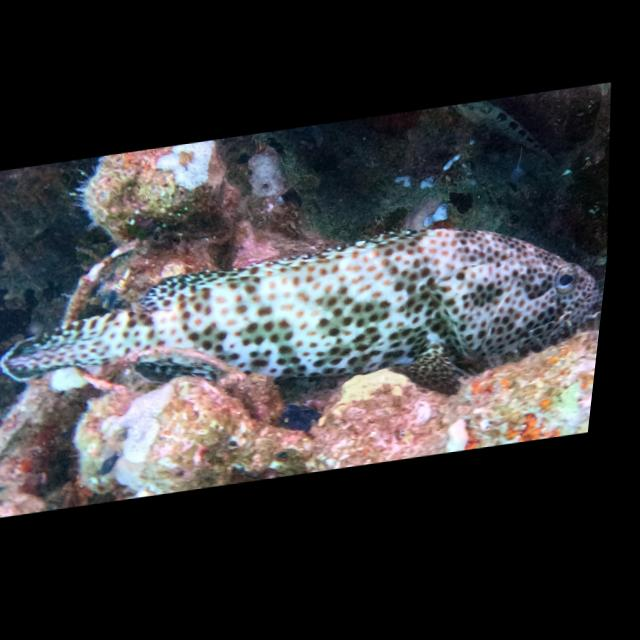Groupers: (0, 196, 614, 457)
